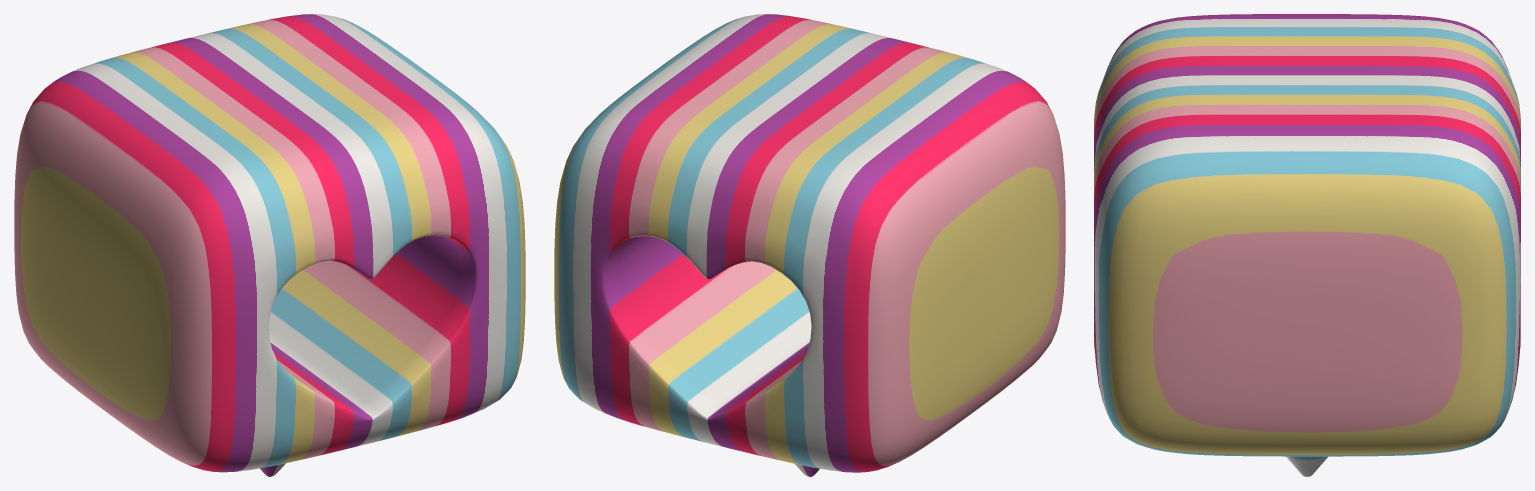
Rendered from C-5_Onstick.fbx.
3 renders of one model, left to right at view 1: azimuth 30°, elevation 25°; view 2: azimuth 150°, elevation 25°; view 3: azimuth 270°, elevation 25°, orthographic. The views are drawn at different scales.
Visible parts, largest first — view 1: C-5; view 2: C-5; view 3: C-5.
Part boxes in pixels (left/top/right/bottom): C-5: left=14, top=14, right=525, bottom=476; C-5: left=554, top=14, right=1065, bottom=476; C-5: left=1094, top=14, right=1520, bottom=476.
Bounding box in the file's own units: 105 × 105 × 108.
